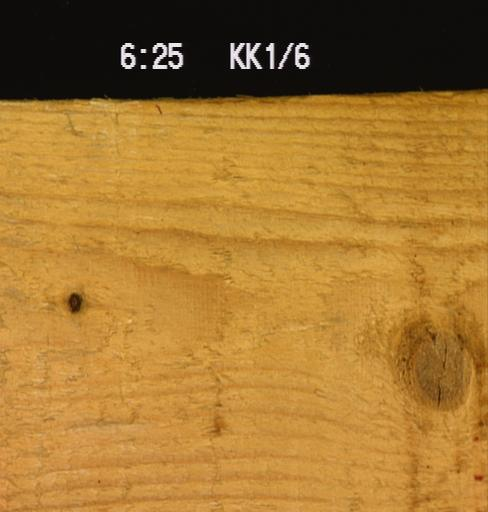dry_knot: (64, 288, 83, 313)
sound_knot: (385, 312, 476, 418)
